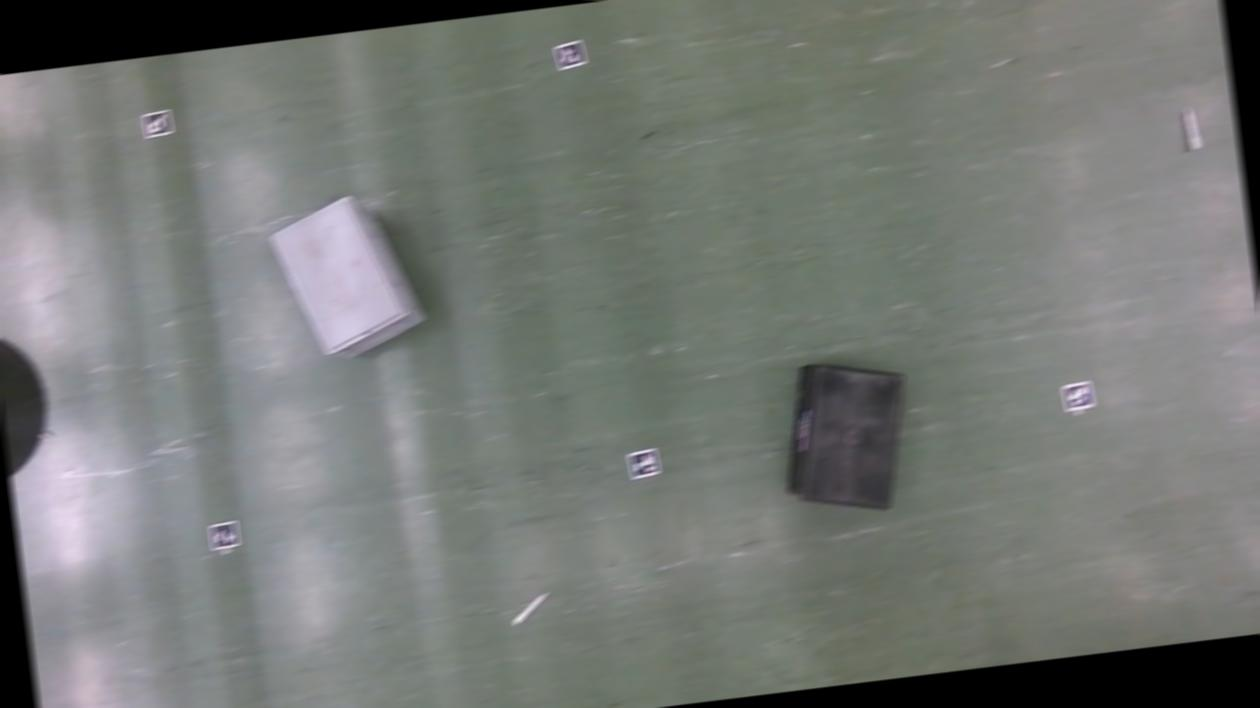probes: (510, 593, 550, 626), (1182, 109, 1200, 152)
rako: (268, 189, 431, 369), (772, 355, 920, 524)
